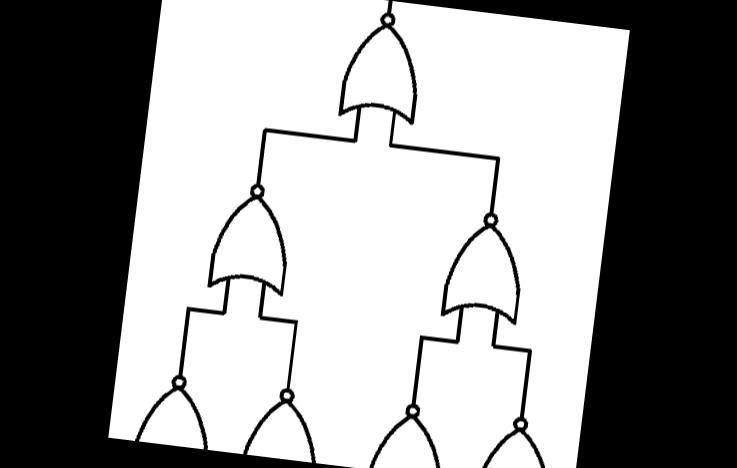nor: (198, 172, 302, 301), (433, 202, 535, 330), (330, 0, 432, 128), (128, 362, 221, 450), (234, 378, 329, 464), (361, 392, 456, 468), (469, 406, 564, 468)
